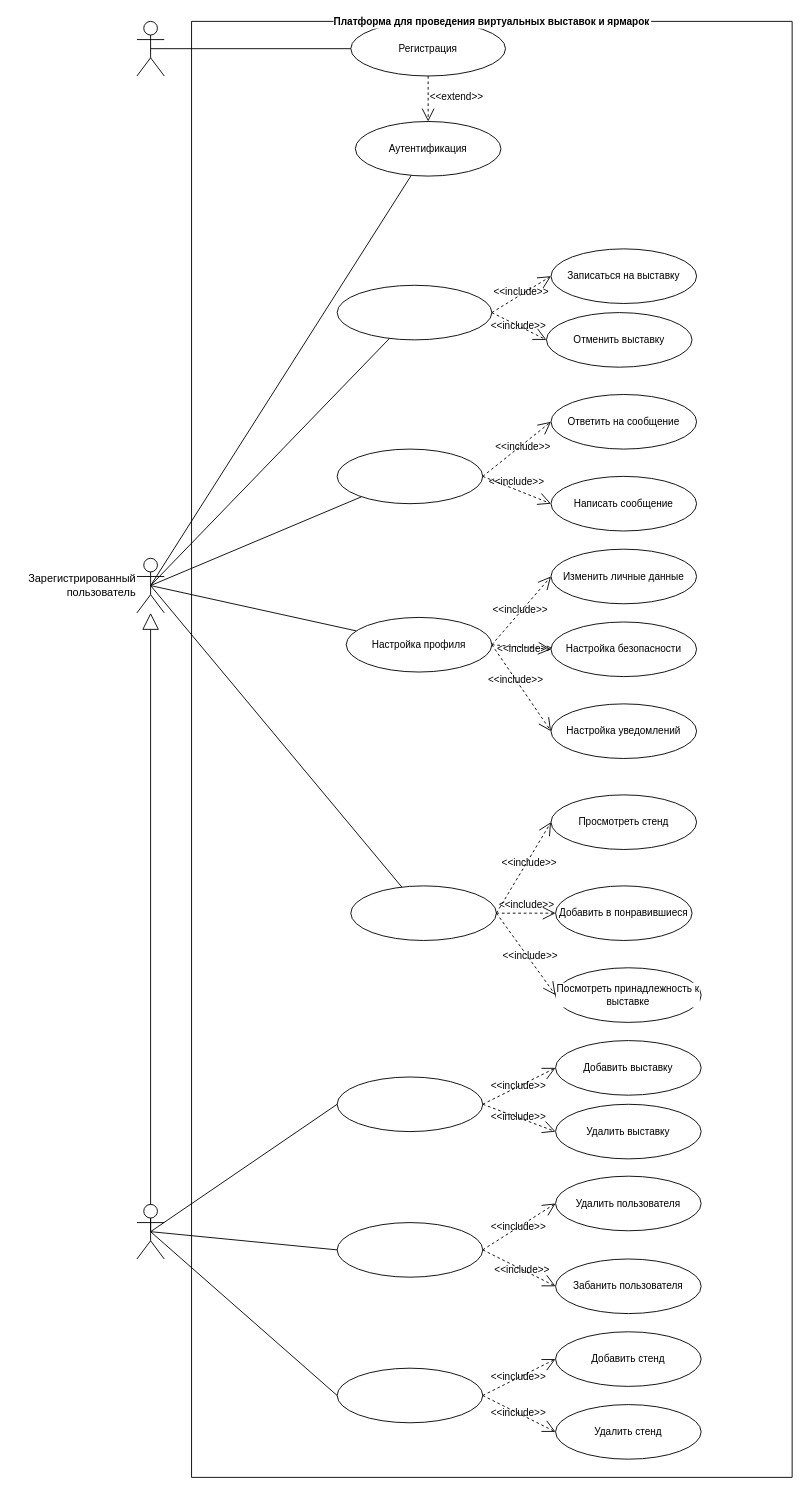
Some shapes in this 808 by 1493 pixel diagram are drawn without their labels. Each missing label, with the centre of its shape:
Администратор: point (150, 1231)
Взаимодействие с выставками: point (414, 312)
Взаимодействие со стендами: point (423, 912)
Незарегистрированный пользователь: point (150, 48)
Общение: point (409, 476)
Управление выставками: point (409, 1104)
Управление пользователями: point (409, 1249)
Управление стендами: point (409, 1395)
